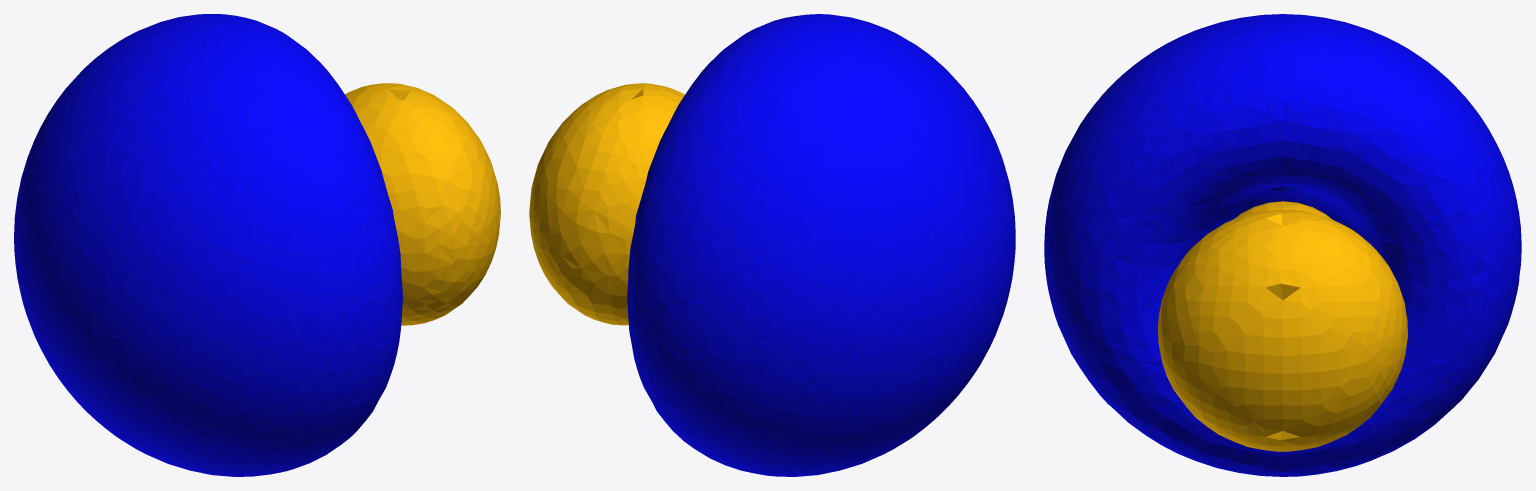
The picture shows the model from 3 angles, left to right: view 1: azimuth 30°, elevation 25°; view 2: azimuth 150°, elevation 25°; view 3: azimuth 270°, elevation 25°; orthographic projection. The views are drawn at different scales.
Size of the model in its own units: 21.56 by 20.06 by 20.06.
